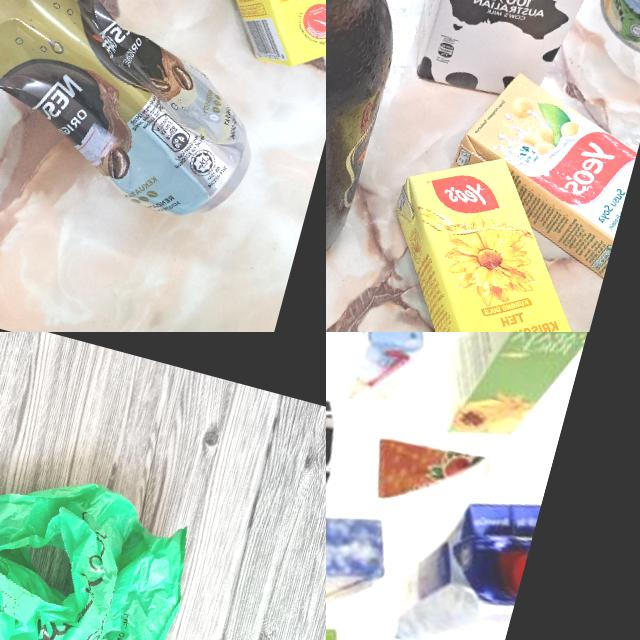caixinha: (338, 134, 625, 332), (437, 64, 640, 276), (373, 470, 540, 640), (420, 332, 603, 462), (403, 0, 603, 117), (336, 332, 435, 413)
garrafa de vidro: (326, 0, 427, 288)
lata: (0, 0, 286, 226), (582, 0, 640, 60)
sacola plástica: (0, 447, 208, 640)
tampa plástica: (502, 544, 529, 592)
